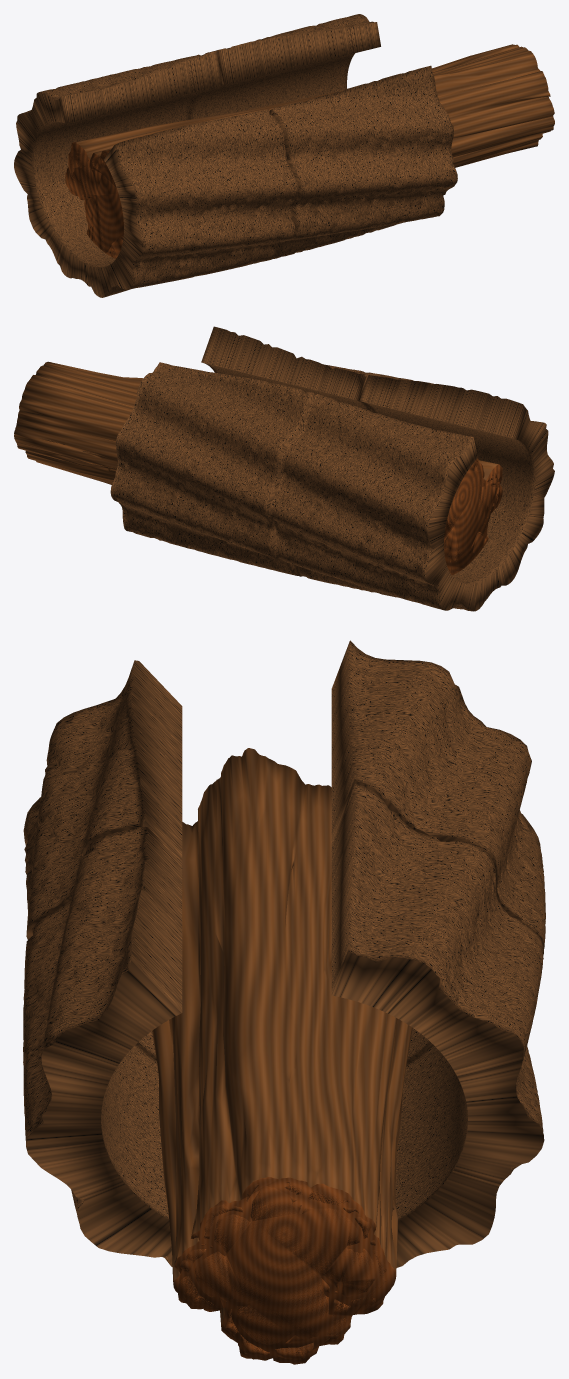
File: corkbark-12-lod0.gltf
3 renders of one model, top to bottom at view 1: azimuth 30°, elevation 25°; view 2: azimuth 150°, elevation 25°; view 3: azimuth 270°, elevation 25°, orthographic. The views are drawn at different scales.
Visible parts, largest first — view 1: cork sleeve 0 L0, cork sleeve 1 L0, corkbark pale inner deadwood; view 2: cork sleeve 0 L0, cork sleeve 1 L0, corkbark pale inner deadwood; view 3: cork sleeve 1 L0, corkbark pale inner deadwood, cork sleeve 0 L0.
Boxes of the visible parts, left/top/right/bottom form: cork sleeve 0 L0: left=14, top=51, right=298, bottom=297; cork sleeve 1 L0: left=188, top=14, right=457, bottom=258; corkbark pale inner deadwood: left=65, top=44, right=554, bottom=258; cork sleeve 0 L0: left=269, top=374, right=554, bottom=611; cork sleeve 1 L0: left=110, top=326, right=377, bottom=575; corkbark pale inner deadwood: left=14, top=361, right=502, bottom=574; cork sleeve 1 L0: left=23, top=783, right=544, bottom=1267; corkbark pale inner deadwood: left=152, top=748, right=412, bottom=1364; cork sleeve 0 L0: left=23, top=640, right=545, bottom=1063.
Size of the model in its own units: 1.49 by 0.5884 by 0.7533.
Materials: 3 (3 with a texture image).
